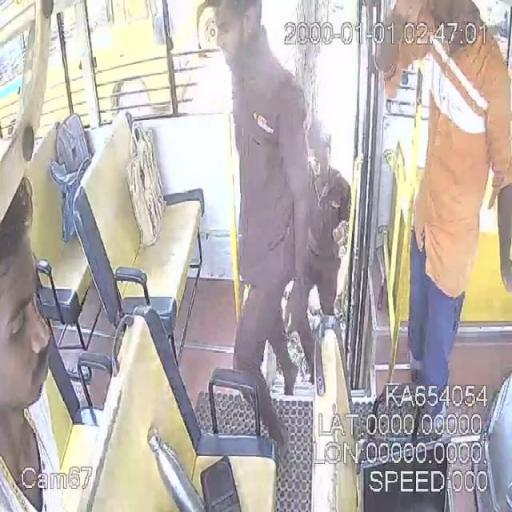persona: (373, 1, 511, 401), (212, 1, 318, 455), (1, 174, 64, 511), (283, 115, 353, 386)
